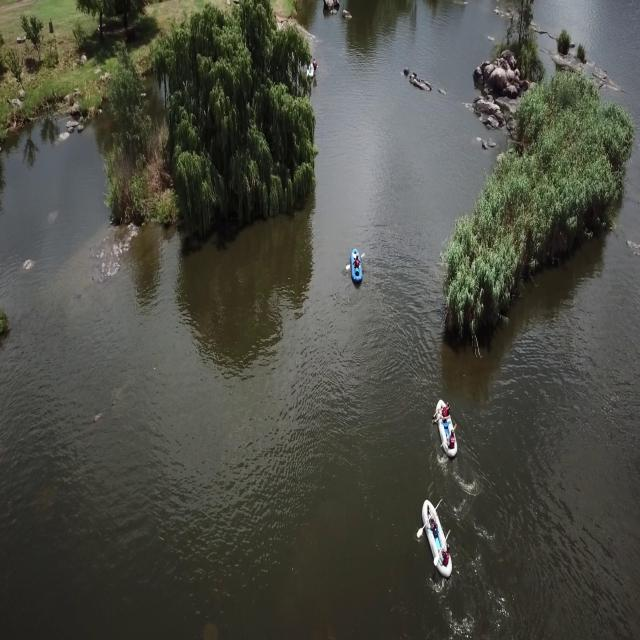kayak: (415, 496, 455, 578), (434, 399, 458, 456), (348, 249, 364, 287)
